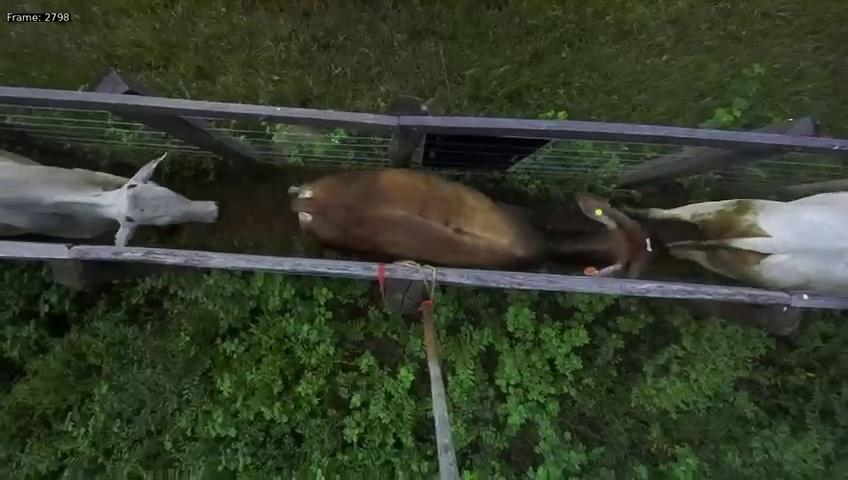cattle: (284, 156, 658, 290), (0, 142, 223, 260)
